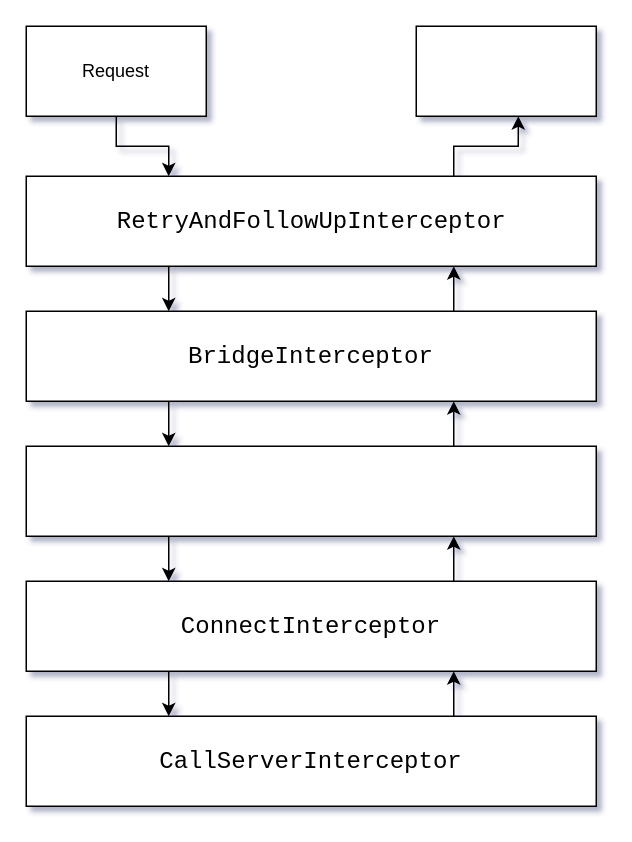
Some shapes in this 632 by 842 pixel diagram are drawn without their labels. The centre of each missing label's shape, as x and y in pixels:
"CacheInterceptor" belongs at point (310, 490).
"Response" belongs at point (505, 70).
